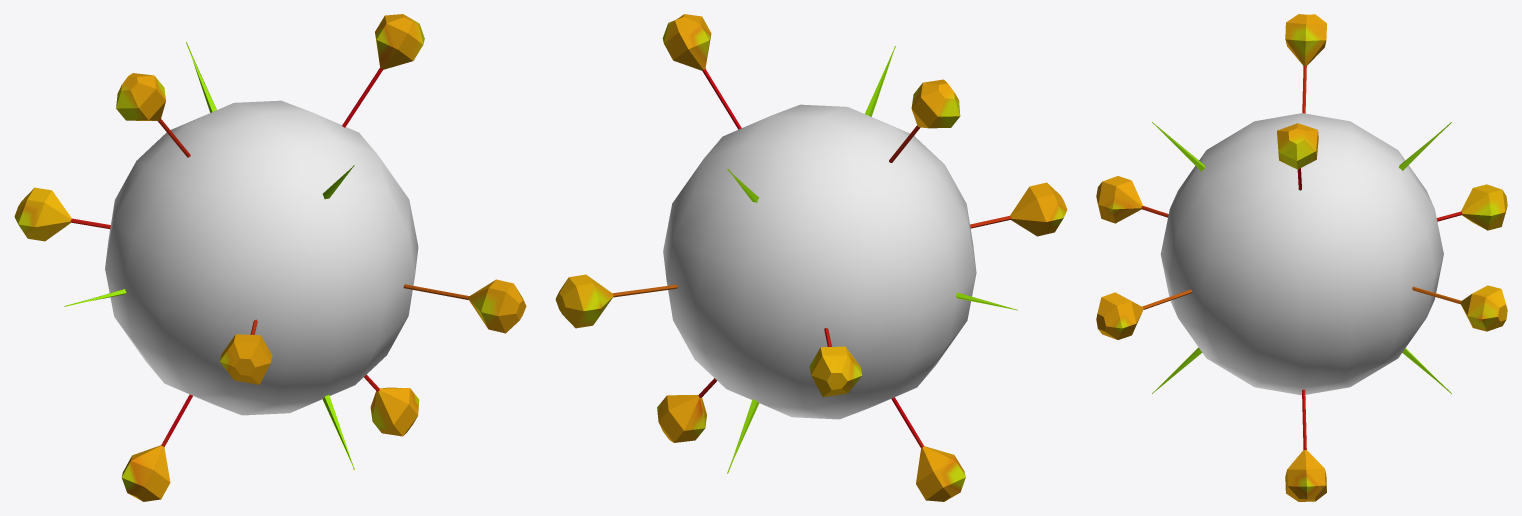
3 views of the same model, side by side, from view 1: azimuth 30°, elevation 25°; view 2: azimuth 150°, elevation 25°; view 3: azimuth 270°, elevation 25° (orthographic). The views are drawn at different scales.
Parts seen in each view (by area): view 1: Roundcube.002, GD_mesh; view 2: Roundcube.002, GD_mesh; view 3: Roundcube.002, GD_mesh.
Part boxes in pixels (x1,y1,x2,y2): Roundcube.002: (105,100,418,415); GD_mesh: (14,14,526,501); Roundcube.002: (663,104,976,419); GD_mesh: (555,14,1067,501); Roundcube.002: (1160,113,1443,395); GD_mesh: (1096,14,1507,501).
Bounding box in the file's own units: 272 × 304 × 304.
Materials: 2 (1 with a texture image).
